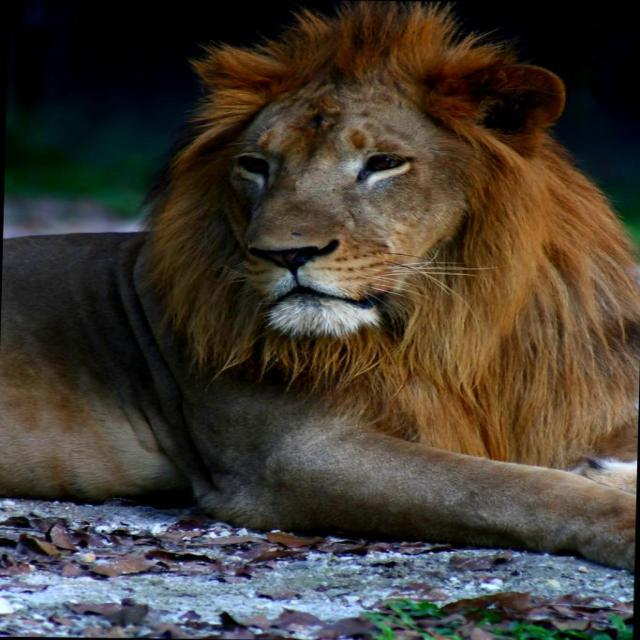Lion: (0, 0, 639, 576)
